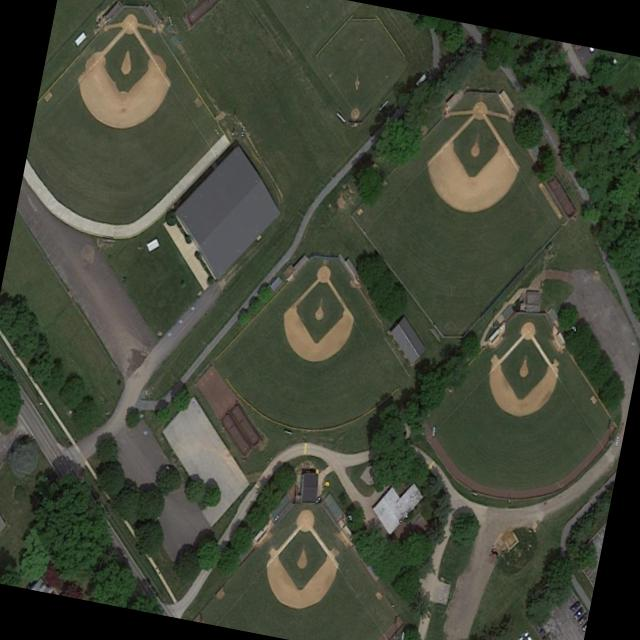small-vehicle: (568, 598, 579, 614), (572, 607, 584, 621), (522, 627, 534, 640), (577, 612, 587, 625), (517, 633, 524, 640)
